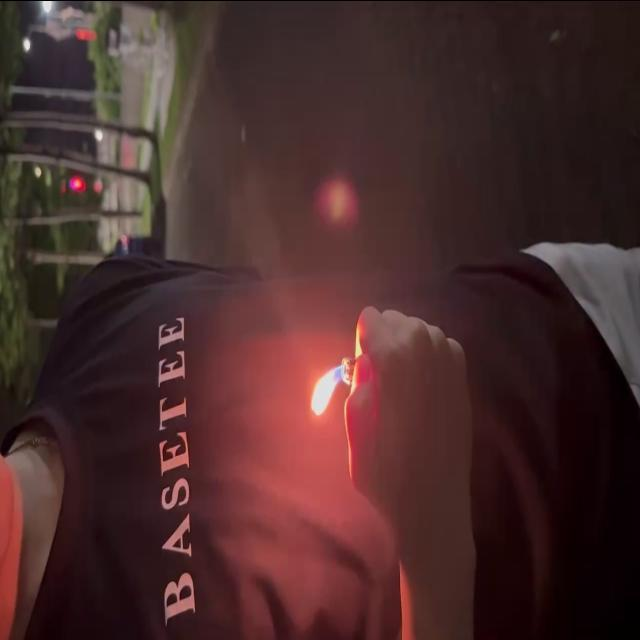Fire: (310, 361, 346, 417)
